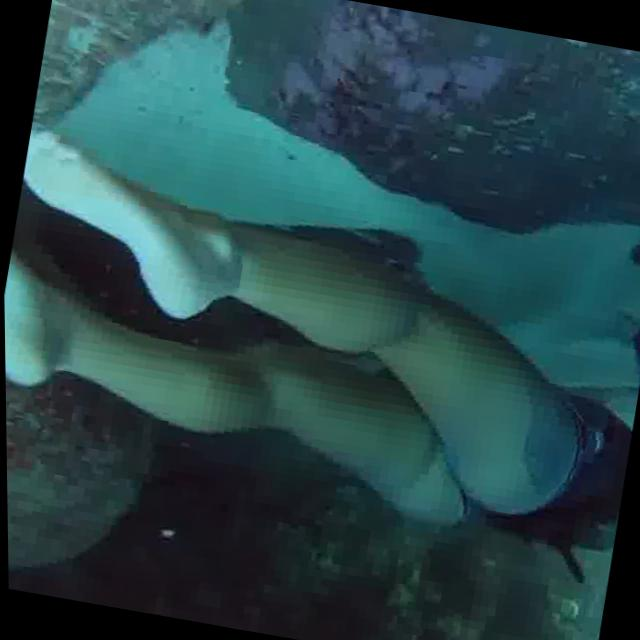human: (1, 121, 640, 593)
